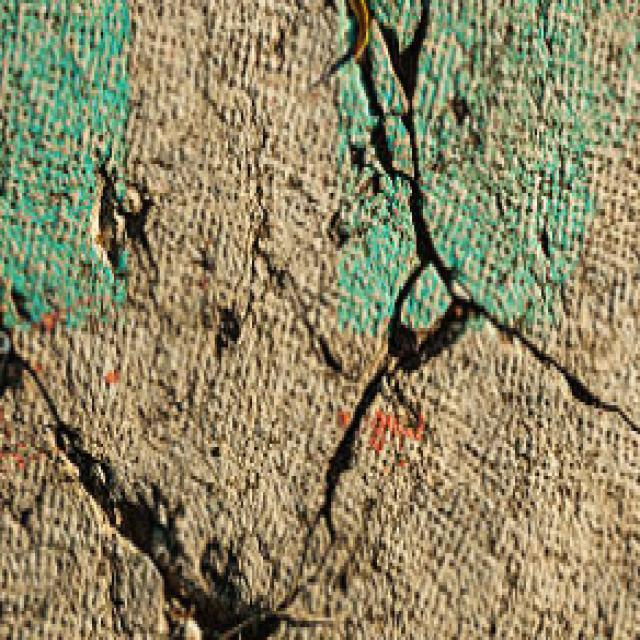branched cracks: (298, 0, 639, 576), (0, 340, 284, 639)
